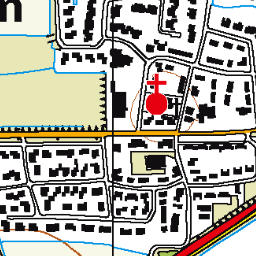church: (141, 71, 172, 116)
